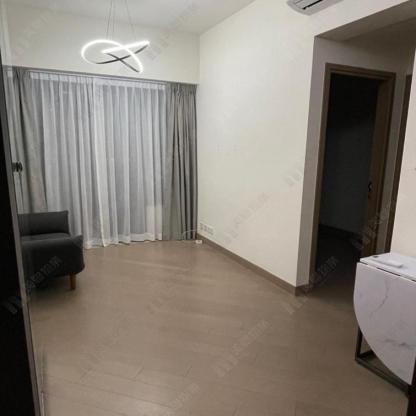Dining Table: (353, 251, 415, 396)
Sofa: (26, 210, 85, 293)
